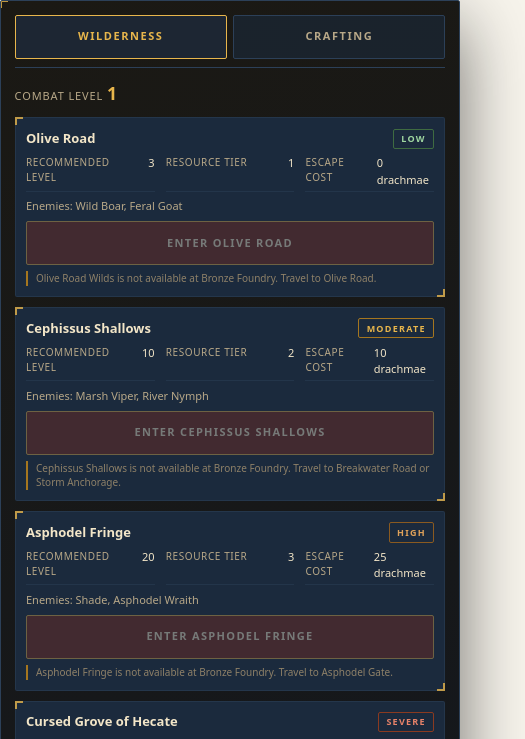
Test: RPGSystemsPanel — Crafting tab › surfaces state.crafting.lastResult through an aria-live status message
This screenshot has width=525, height=739.
Click the tab "Crafting" at coordinates (339, 37), box [233,15,445,59]
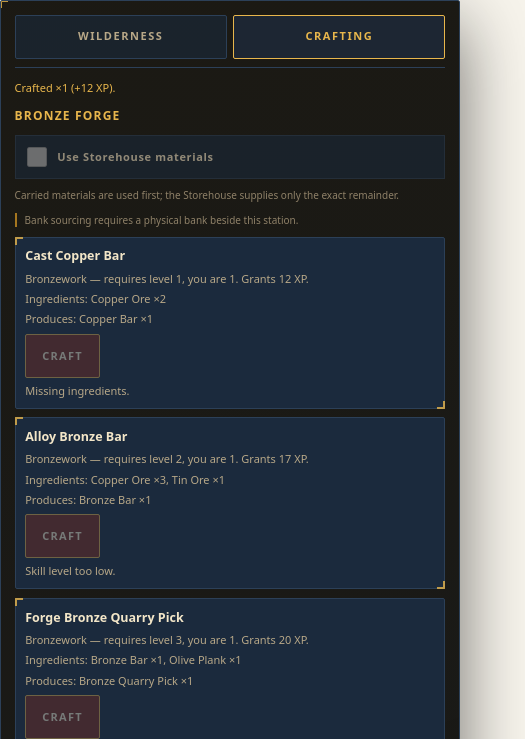
Result: the message "Crafted ×1 (+12 XP)." is shown at [15,80,116,95]
